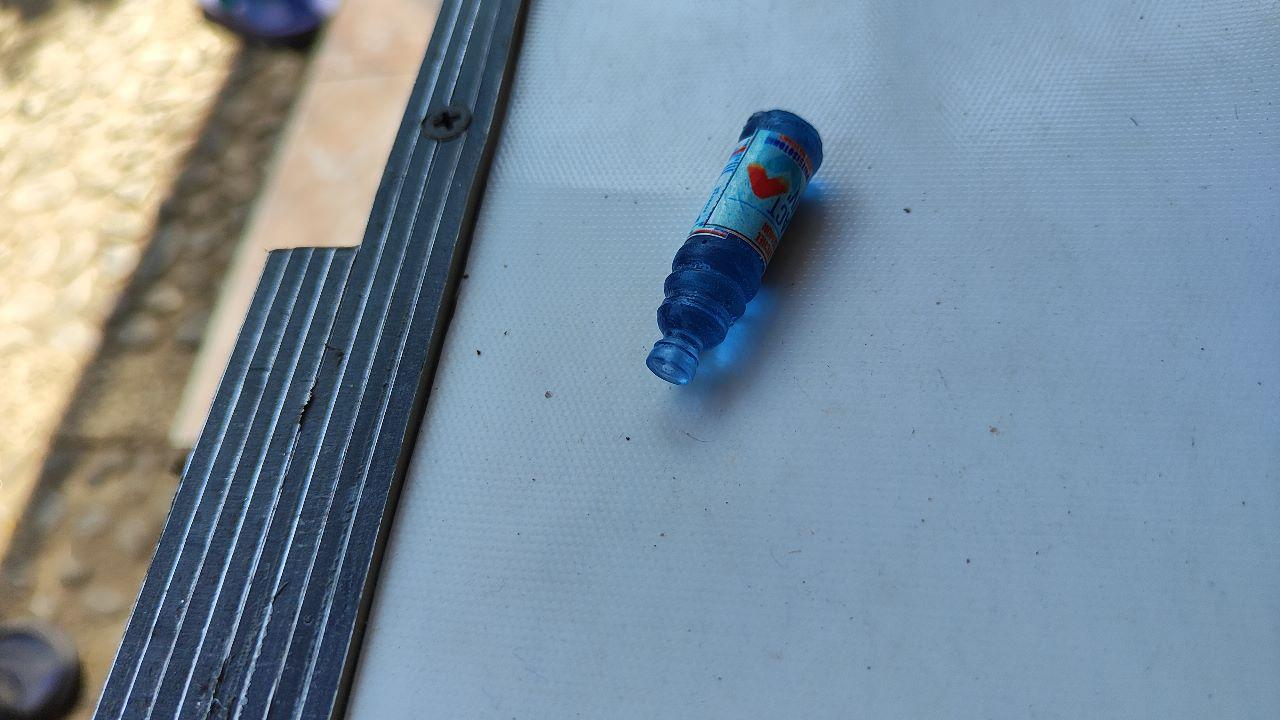Plastik: (646, 109, 827, 385)
